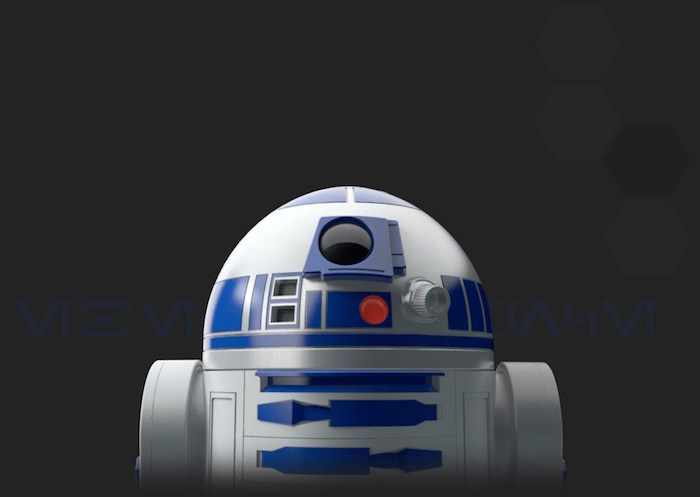r2d2: (141, 186, 565, 474)
